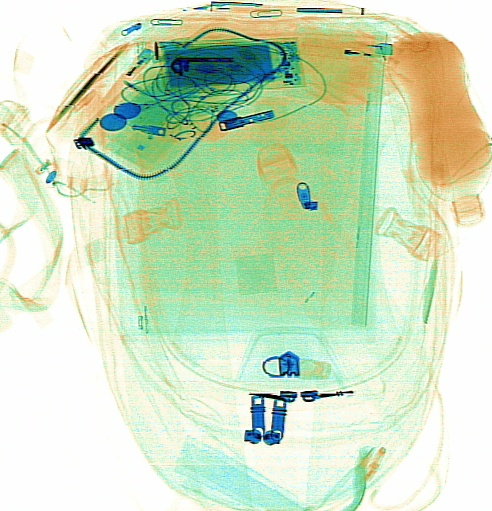lighter: (98, 43, 153, 107), (295, 31, 394, 62)
